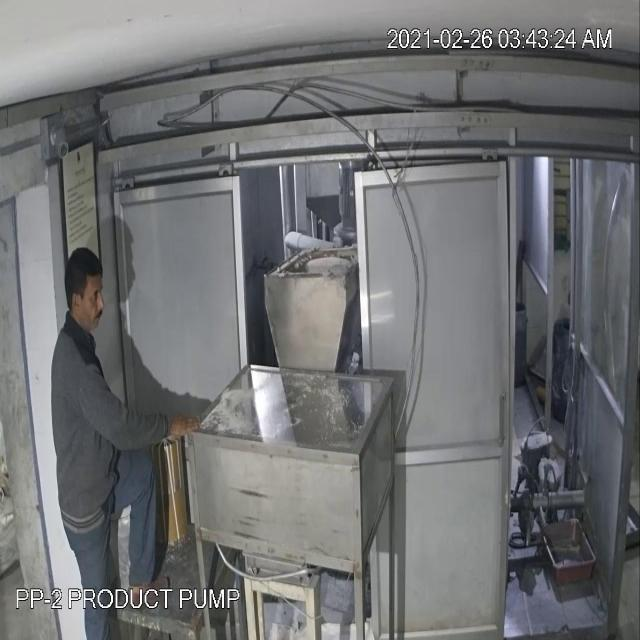no-helmet: (60, 236, 112, 330)
